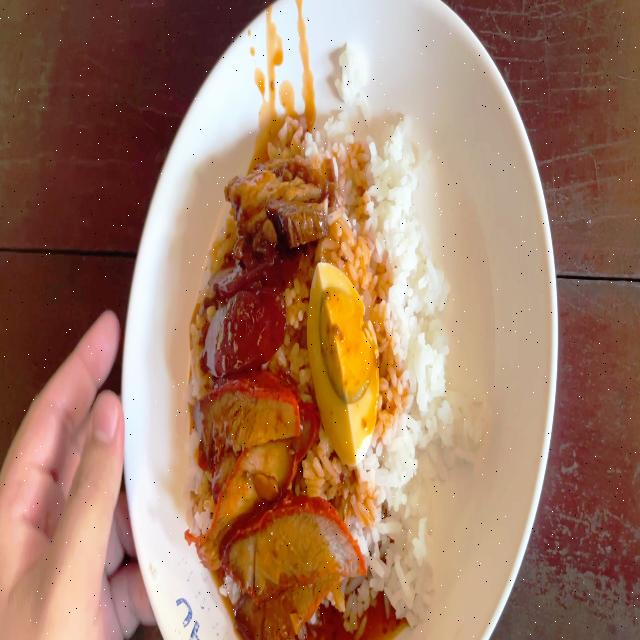boiled_egg: (311, 262, 375, 458)
chainese_sausage: (203, 249, 288, 373)
crispy_pork: (222, 154, 332, 244)
red_pork: (190, 373, 316, 622), (299, 496, 363, 616)
red_pork_and_crispy_pork: (195, 116, 453, 640)
rice: (374, 274, 454, 611), (331, 119, 441, 269)
